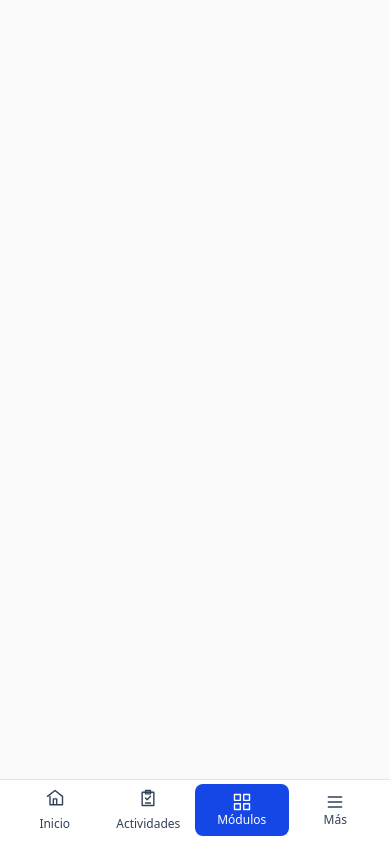
Test: la barra móvil abre módulos y mueve Empresas a Más, con foco recuperable
Expected: the link "Empresas" is not shown
Click the button "Módulos" at point(242, 810), box [195, 784, 288, 836]
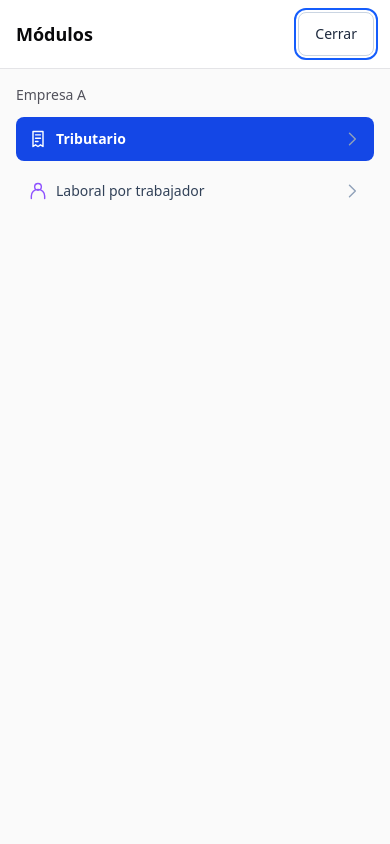
Expected: the dialog "Módulos" is shown
Click the button "Cerrar" at point(336, 34), box [298, 12, 374, 56]
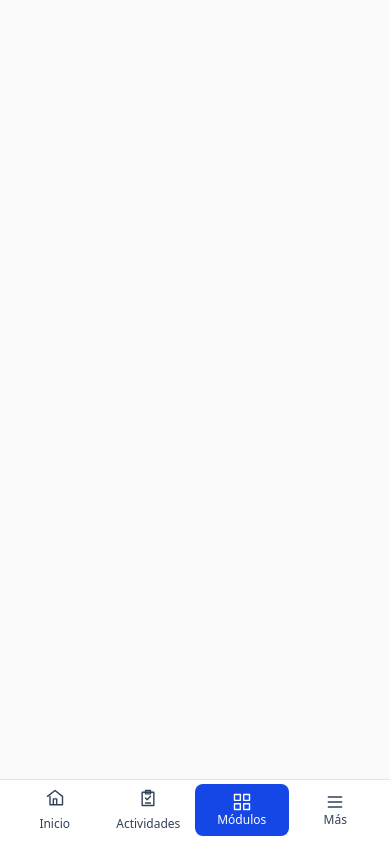
Click the button "Más" at point(335, 810), box [288, 784, 382, 836]
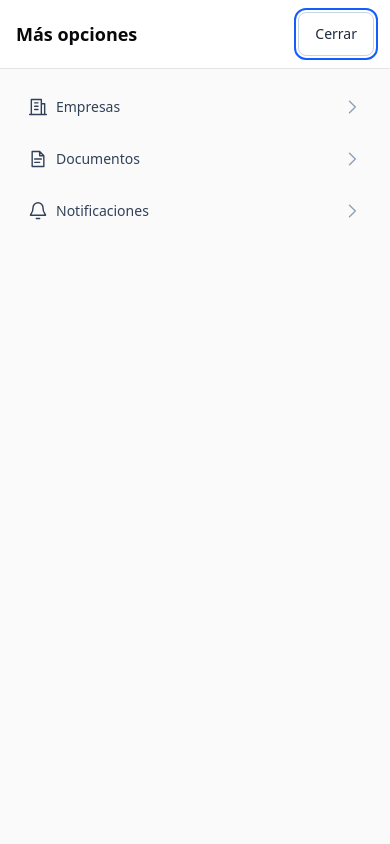
Expected: the link "Empresas" is shown, [28, 97, 362, 117]
Expected: the link "Documentos" is shown, [28, 149, 362, 169]
